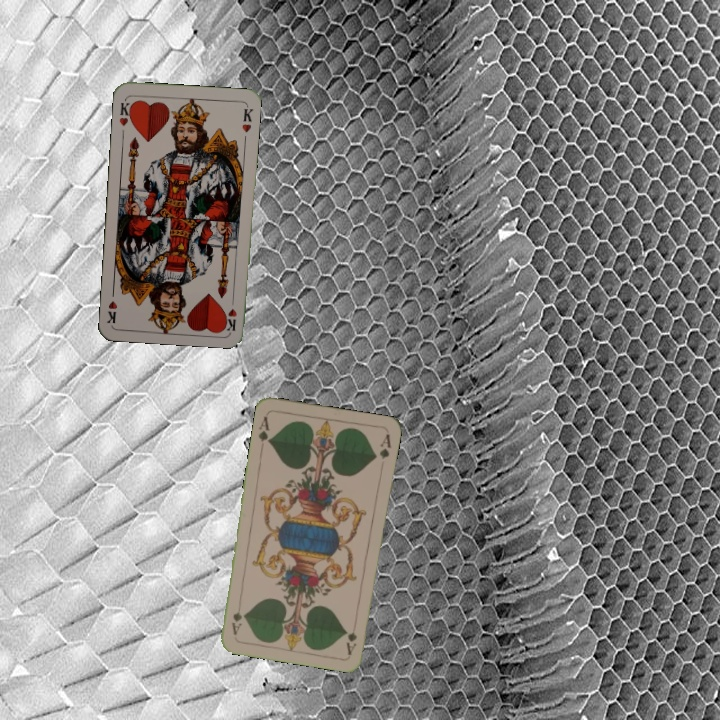GA: (342, 616, 360, 657), (254, 412, 273, 446)
HK: (222, 292, 239, 332), (115, 96, 135, 128)
